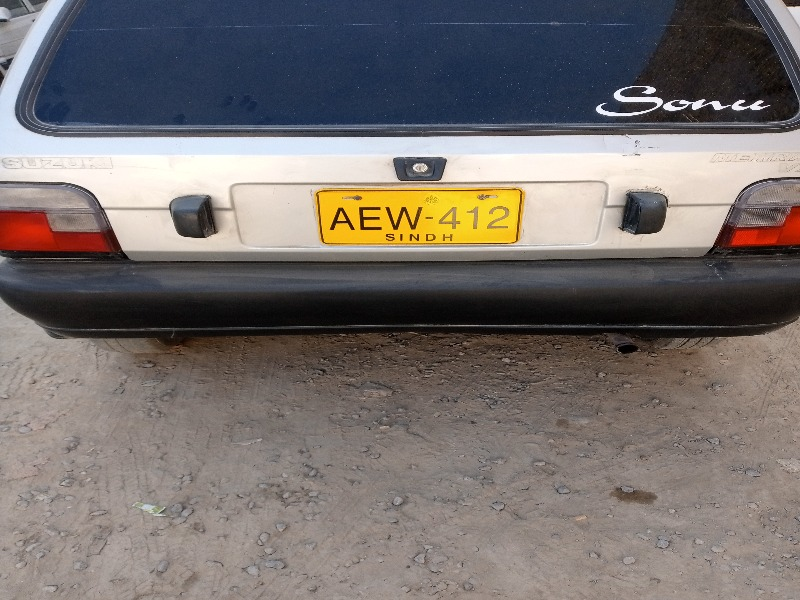License Plate: (311, 186, 526, 250)
